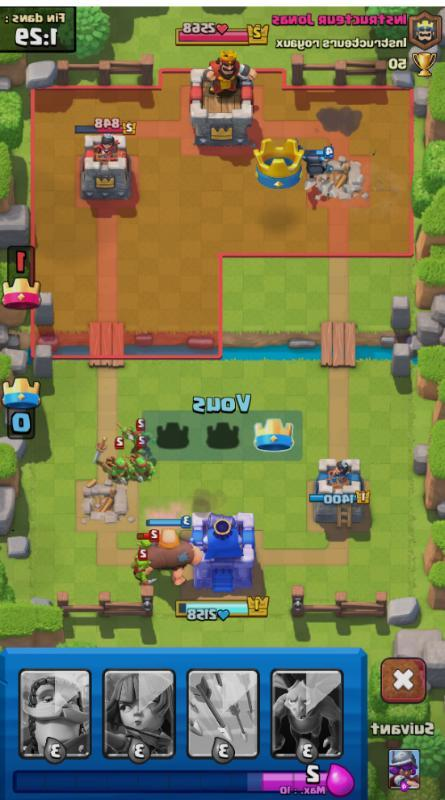enemy_spear_goblins: (128, 549, 157, 585), (127, 449, 156, 478), (103, 451, 130, 482), (125, 417, 150, 444)
player_giant: (135, 523, 205, 587)
player_mini_pekka: (296, 137, 335, 183)
